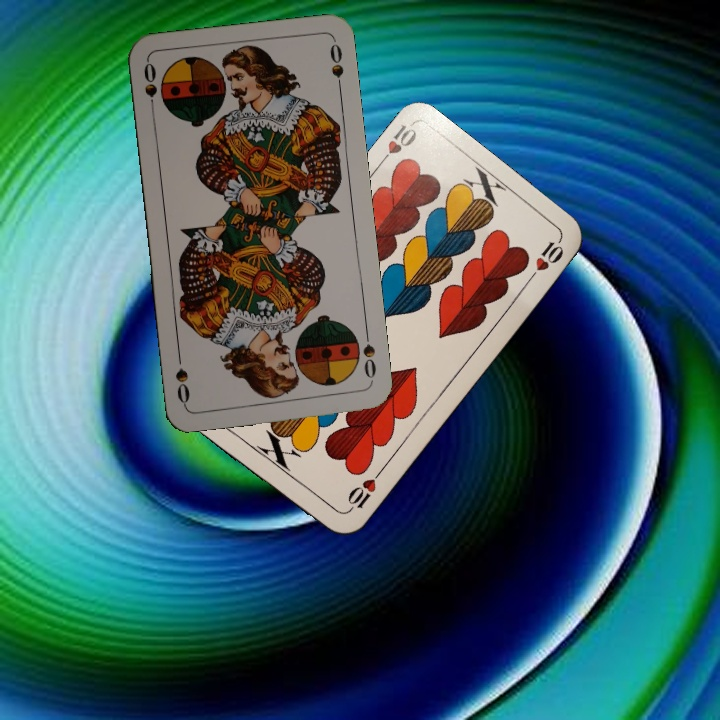H10: (373, 120, 420, 170), (342, 466, 385, 516)
SO: (139, 58, 160, 118), (359, 326, 379, 386)
